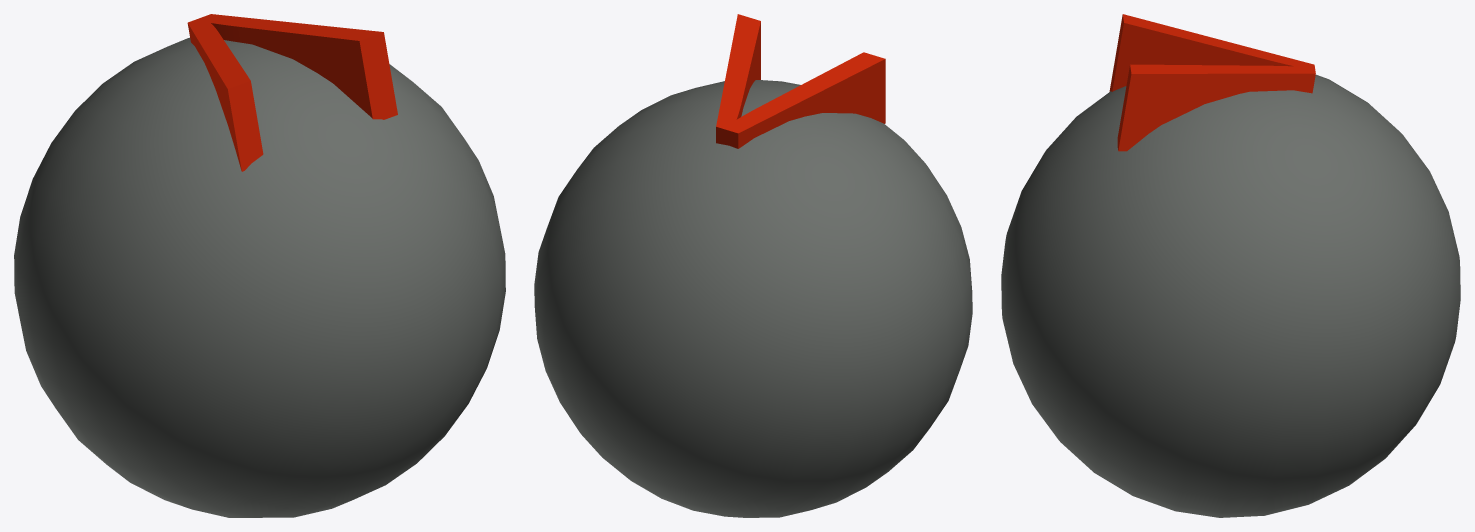
3 renders of one model, left to right at view 1: azimuth 30°, elevation 25°; view 2: azimuth 150°, elevation 25°; view 3: azimuth 270°, elevation 25°, orthographic. The views are drawn at different scales.
Parts seen in each view (by area): view 1: V; view 2: V; view 3: V.
Part boxes in pixels (x1,y1,x2,y2): V: (14,14,505,517); V: (534,14,972,517); V: (1001,14,1460,517).
Size of the model in its own units: 38.63 by 42.09 by 38.6.
